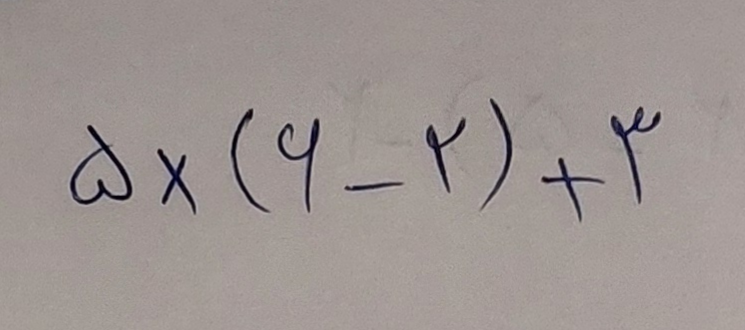character: (610, 106, 665, 203), (70, 122, 131, 206), (230, 108, 272, 214), (542, 155, 607, 222), (278, 117, 323, 210), (426, 117, 467, 194), (482, 98, 510, 209), (153, 148, 199, 212), (345, 180, 407, 193)
